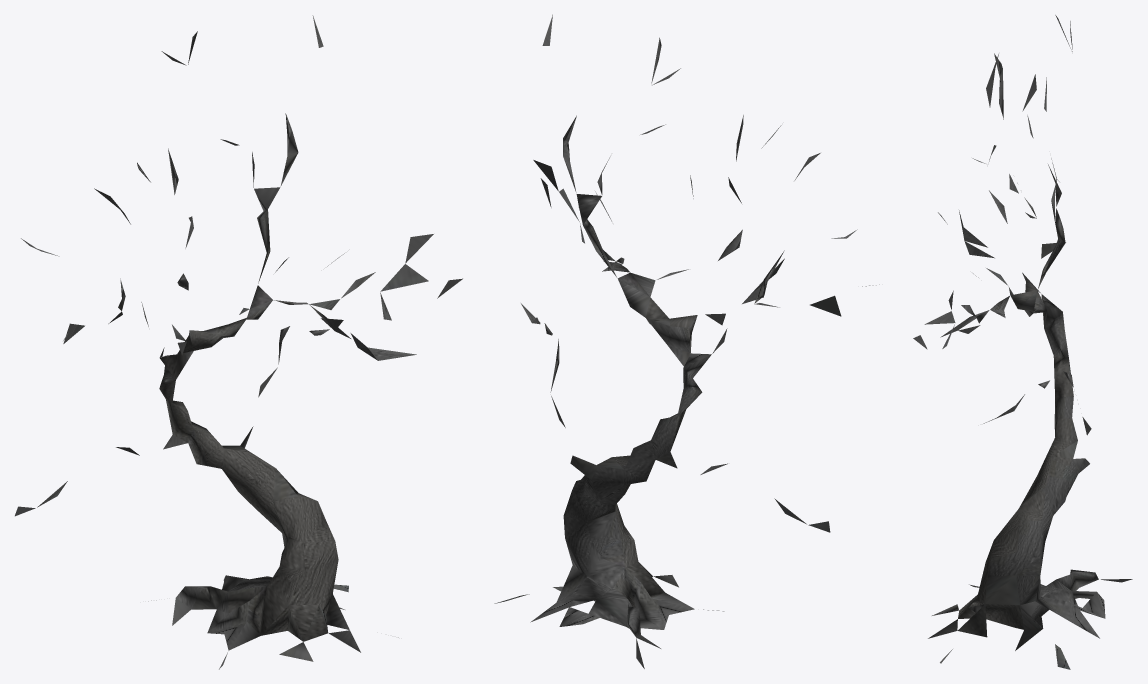
The model's file is dead_tree.glb.
The picture shows the model from 3 angles, left to right: view 1: azimuth 30°, elevation 25°; view 2: azimuth 150°, elevation 25°; view 3: azimuth 270°, elevation 25°; orthographic projection. The views are drawn at different scales.
Size of the model in its own units: 0.6307 by 0.9514 by 0.3276.
1 material, 1 textured.
